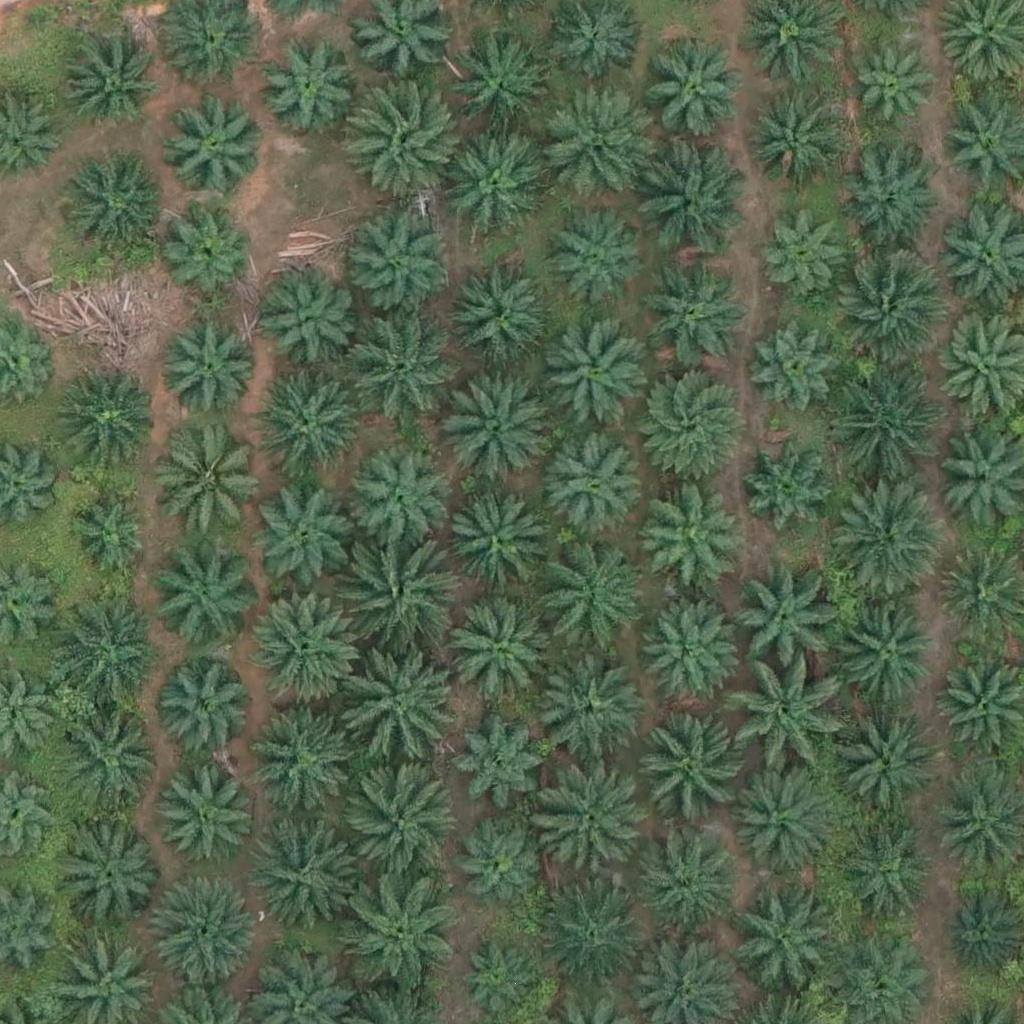Kelapa_Sawit: (531, 658, 644, 772), (249, 815, 362, 929), (537, 84, 650, 198), (724, 764, 837, 877), (728, 881, 841, 994), (634, 711, 747, 824), (339, 541, 452, 654), (348, 770, 461, 883), (249, 705, 362, 818), (146, 542, 259, 655), (148, 877, 261, 990), (52, 697, 165, 810), (53, 597, 166, 710), (629, 362, 742, 475), (536, 319, 649, 432), (247, 363, 360, 476), (829, 601, 941, 715), (343, 875, 455, 989), (830, 245, 942, 359), (827, 363, 939, 477), (634, 140, 746, 254), (828, 486, 940, 599), (833, 711, 945, 824), (726, 660, 838, 773), (538, 540, 650, 653), (539, 772, 651, 885), (538, 874, 650, 987), (444, 593, 556, 706), (345, 653, 457, 766), (248, 589, 360, 702), (442, 368, 554, 481), (346, 313, 458, 426), (340, 203, 452, 316), (347, 83, 459, 196), (156, 426, 268, 539), (642, 42, 742, 143), (60, 32, 160, 133), (640, 838, 740, 939), (646, 601, 746, 702), (451, 715, 551, 816), (151, 660, 251, 761), (159, 764, 259, 865), (62, 828, 162, 929), (839, 153, 939, 254), (736, 433, 836, 534), (635, 483, 735, 584), (544, 432, 644, 533), (543, 203, 643, 304), (442, 133, 542, 234), (446, 266, 546, 367), (441, 494, 541, 595), (350, 449, 450, 550), (257, 270, 357, 371), (250, 484, 350, 585), (162, 318, 262, 419), (165, 93, 265, 194), (61, 153, 161, 254), (256, 34, 356, 134), (838, 828, 938, 928), (729, 572, 829, 672), (749, 314, 849, 414), (745, 88, 845, 188), (640, 265, 740, 365), (452, 40, 552, 140), (56, 372, 156, 472), (847, 49, 935, 137), (761, 209, 849, 297), (65, 485, 153, 573), (463, 819, 550, 907), (165, 205, 252, 293), (461, 942, 536, 1018)
